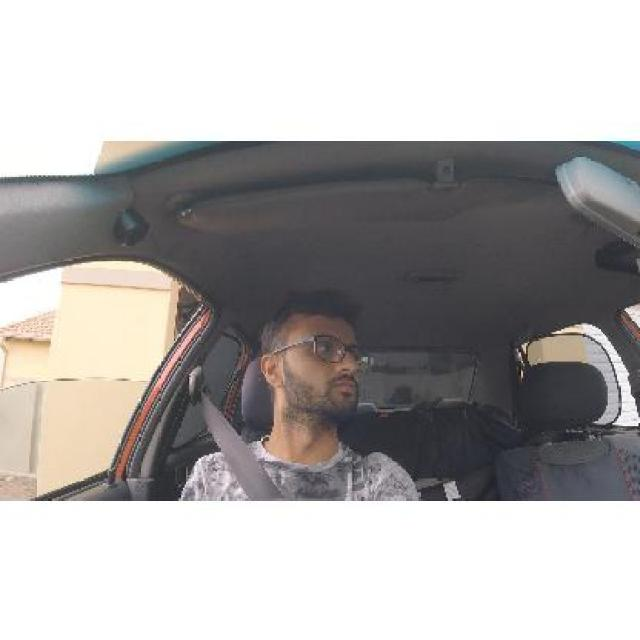LeftRight: (246, 268, 384, 459)
